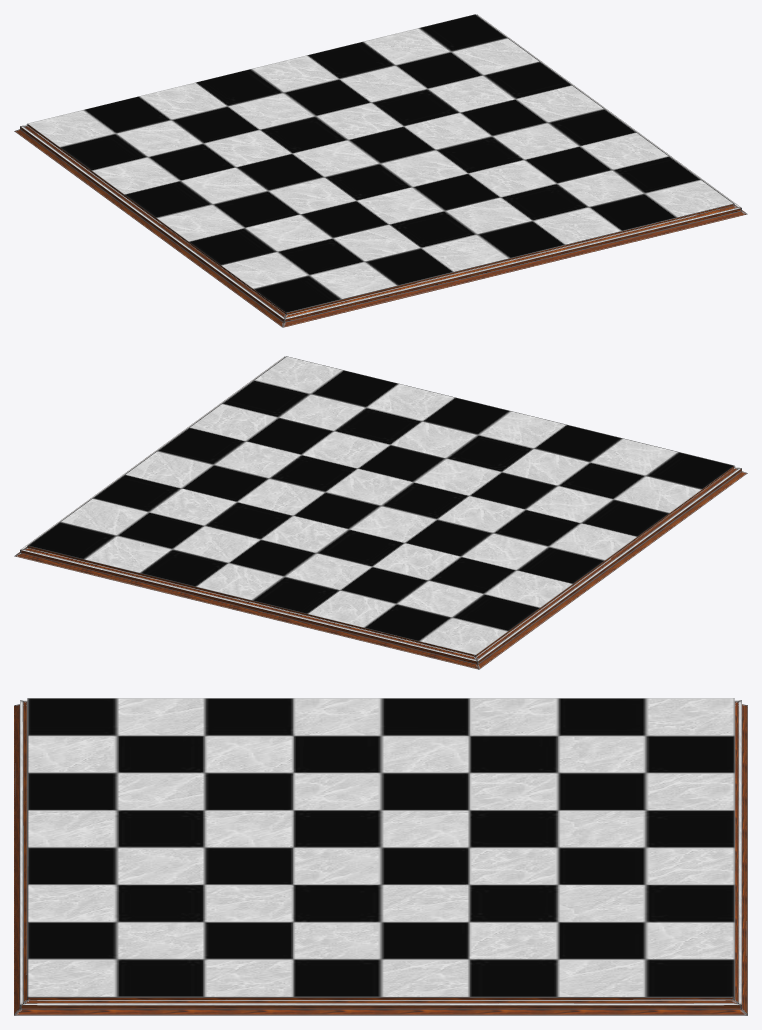
Rendered from modell_chessBoard.obj.
The picture shows the model from 3 angles, top to bottom: view 1: azimuth 30°, elevation 25°; view 2: azimuth 150°, elevation 25°; view 3: azimuth 270°, elevation 25°; orthographic projection. The views are drawn at different scales.
Visible parts, largest first — view 1: Cube; view 2: Cube; view 3: Cube.
Part boxes in pixels (x1,y1,x2,y2): Cube: (14, 14, 747, 327); Cube: (14, 356, 747, 669); Cube: (14, 698, 747, 1015).
Size of the model in its own units: 10.05 by 0.1883 by 10.05.
Materials: 1 (1 with a texture image).
